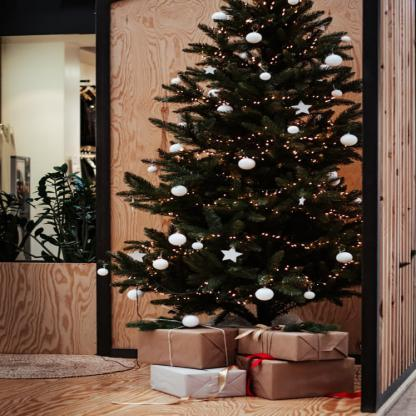present: (117, 314, 235, 368), (228, 321, 367, 362), (251, 352, 373, 398), (146, 360, 266, 400)
x_mas tree: (134, 0, 384, 326)
